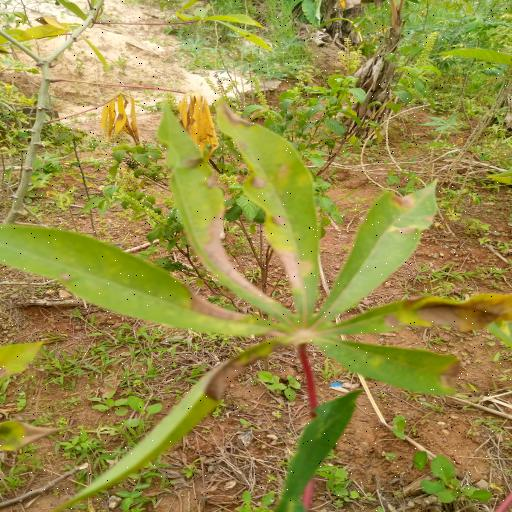Cassava_Brown_Leaf_Spot: (2, 99, 512, 501)
